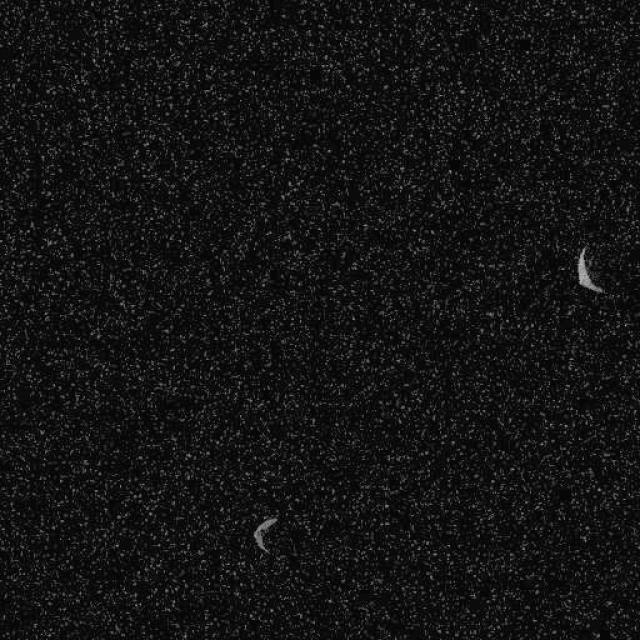D2: (575, 244, 605, 295), (252, 515, 278, 554)
